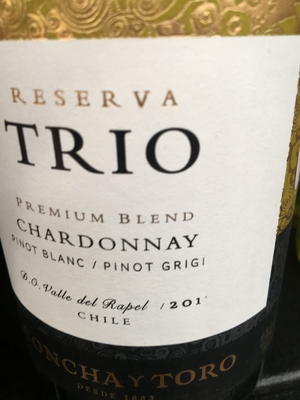trio chardonnay: (3, 2, 300, 387)
